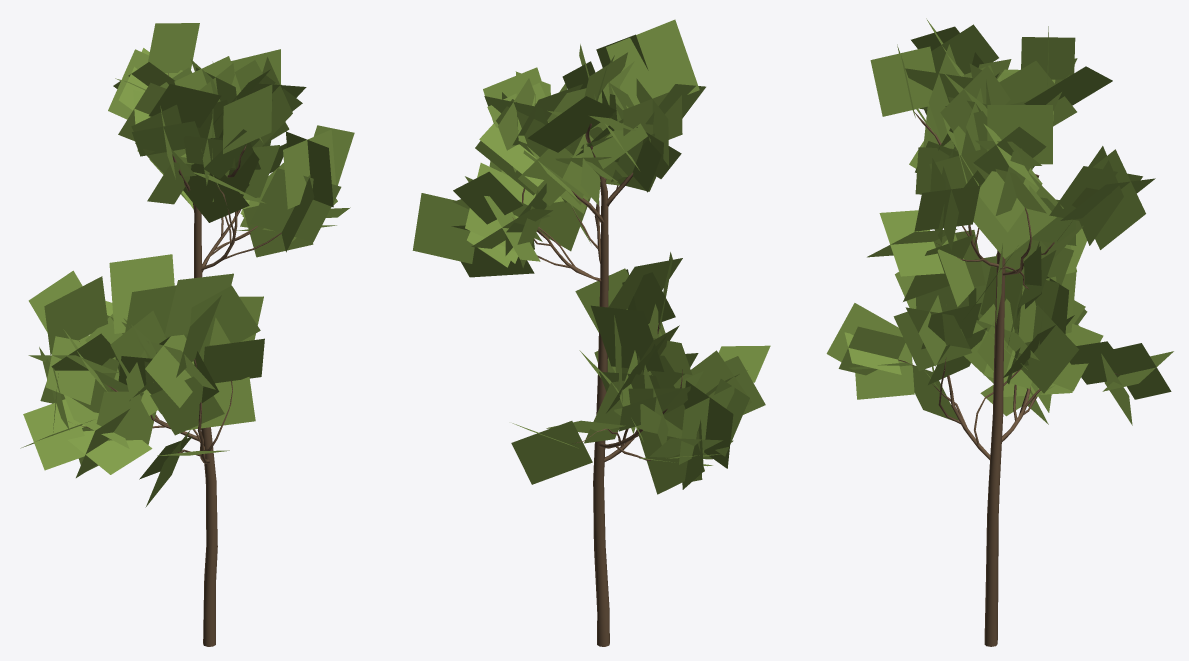
Rendered from meadow-aspen-b.lod1.glb.
The picture shows the model from 3 angles, left to right: view 1: azimuth 30°, elevation 25°; view 2: azimuth 150°, elevation 25°; view 3: azimuth 270°, elevation 25°; orthographic projection.
Parts seen in each view (by area): view 1: leaves, bark; view 2: leaves, bark; view 3: leaves, bark.
Boxes of the visible parts, box(x1,y1,x2,y2) form: leaves: box(20, 23, 354, 507); bark: box(68, 73, 281, 646); leaves: box(412, 19, 770, 494); bark: box(512, 123, 682, 646); leaves: box(826, 18, 1173, 425); bark: box(898, 112, 1119, 646).
Size of the model in its own units: 20.95 by 37.5 by 19.36.
